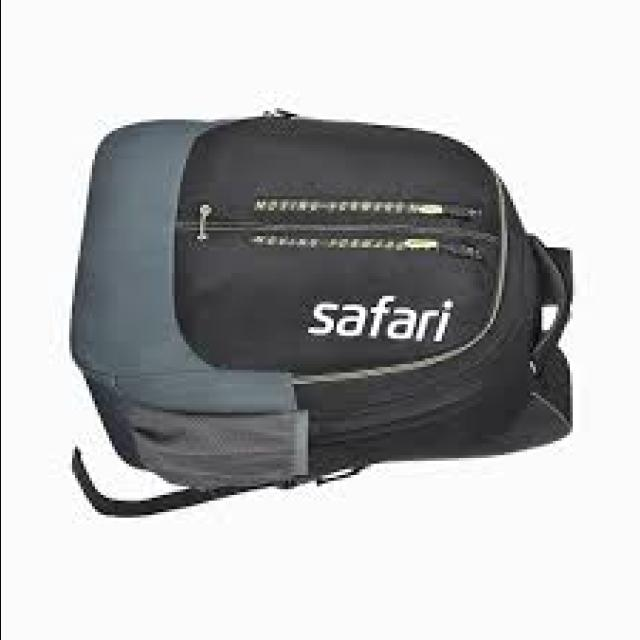backpack: (70, 109, 579, 519)
